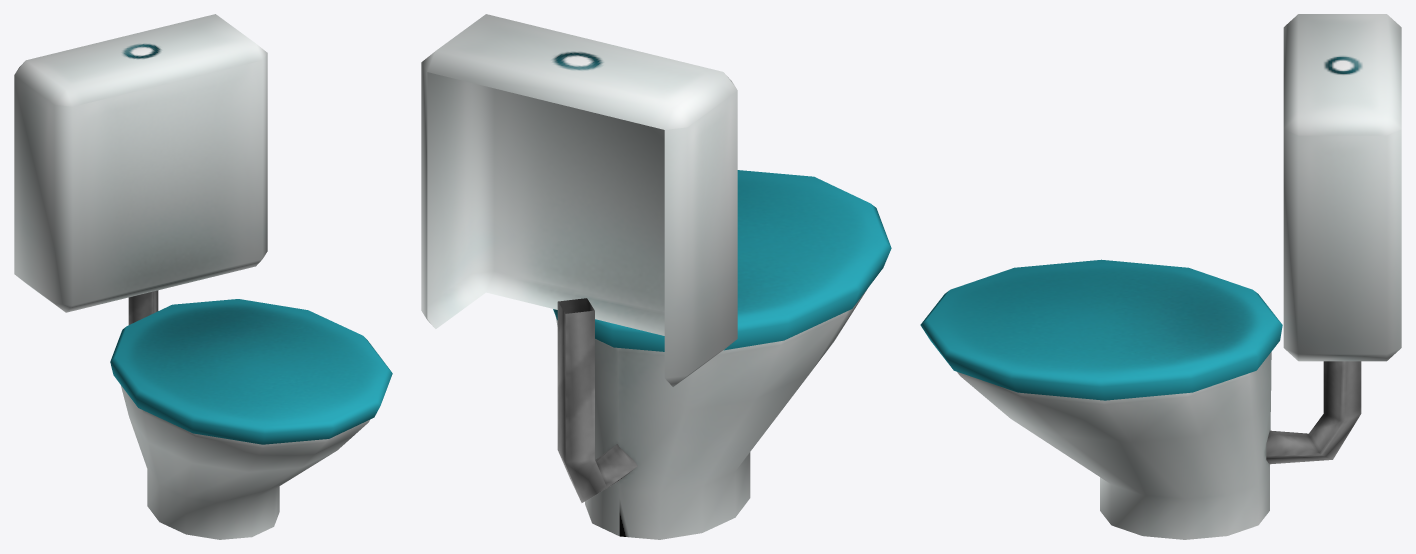
Rendered from Toilet.fbx.
3 renders of one model, left to right at view 1: azimuth 30°, elevation 25°; view 2: azimuth 150°, elevation 25°; view 3: azimuth 270°, elevation 25°, orthographic. The views are drawn at different scales.
Parts seen in each view (by area): view 1: PatentModel; view 2: PatentModel; view 3: PatentModel.
Part boxes in pixels (x1,y1,x2,y2): PatentModel: (14, 14, 392, 539); PatentModel: (421, 14, 891, 539); PatentModel: (920, 14, 1401, 539).
Bounding box in the file's own units: 217 × 363 × 356.
